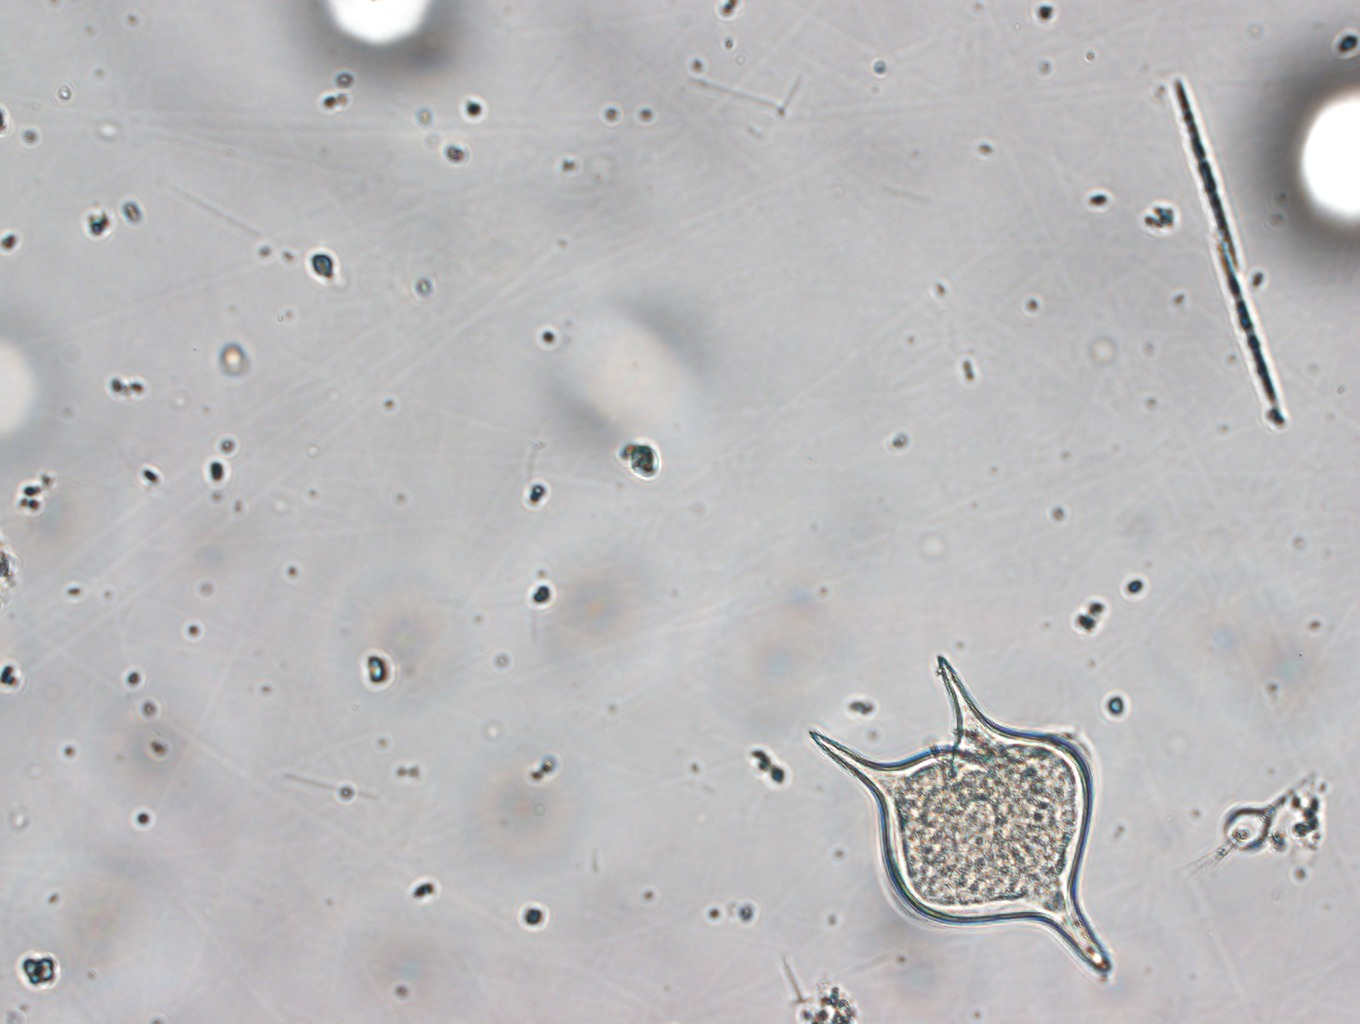ceratium furca: (802, 645, 1123, 980)
